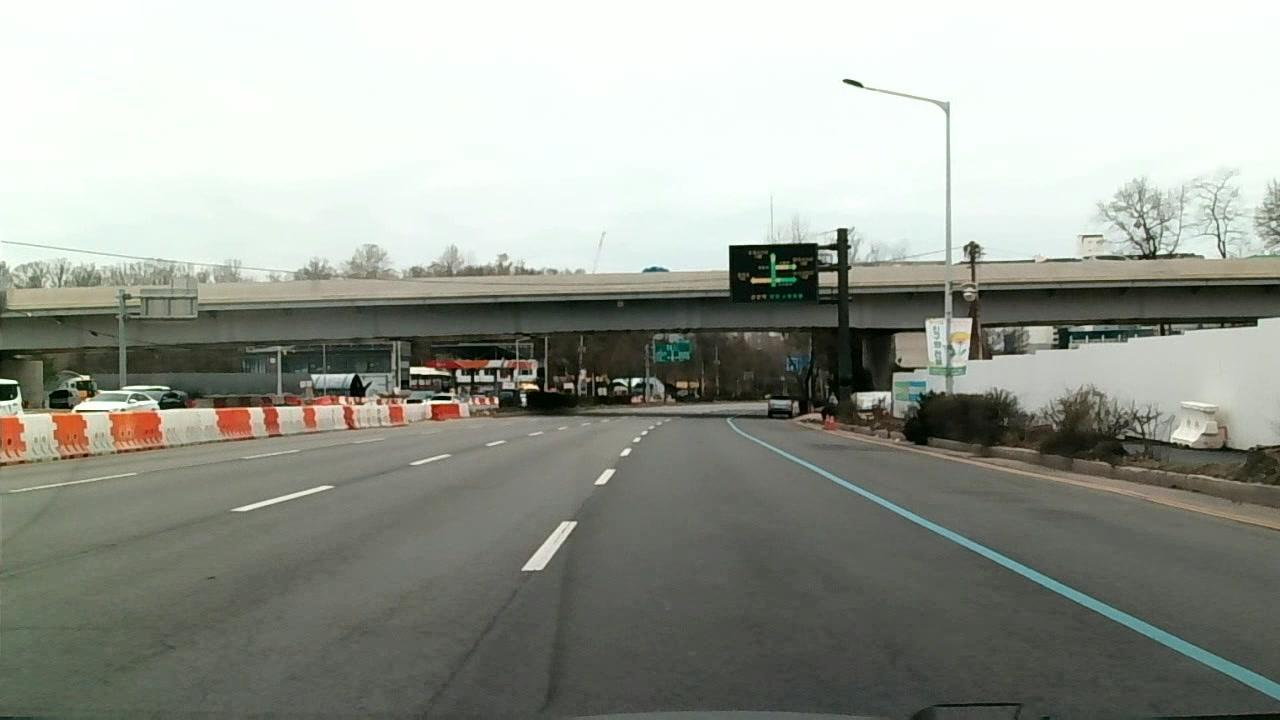vcrack: (470, 570, 536, 645), (414, 653, 475, 713), (564, 486, 598, 527)
